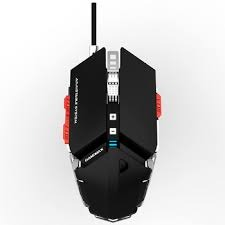mouse: (60, 43, 162, 224)
